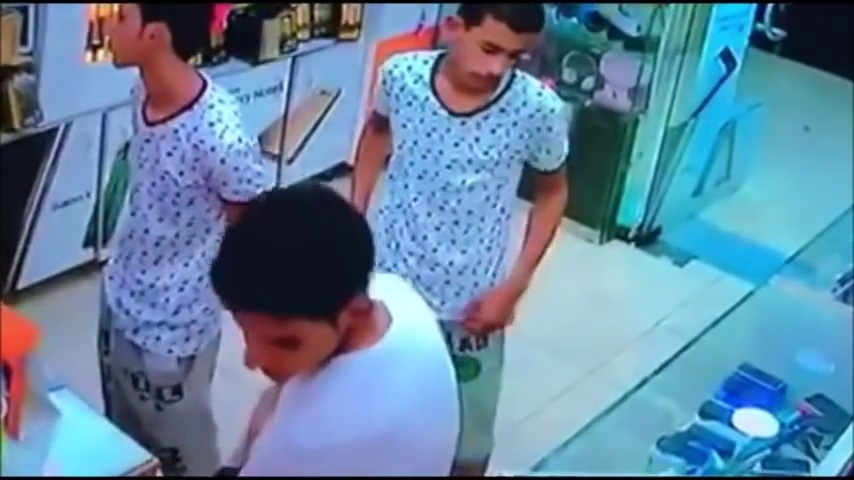face: (221, 313, 334, 390), (453, 18, 523, 92), (94, 4, 171, 67)
